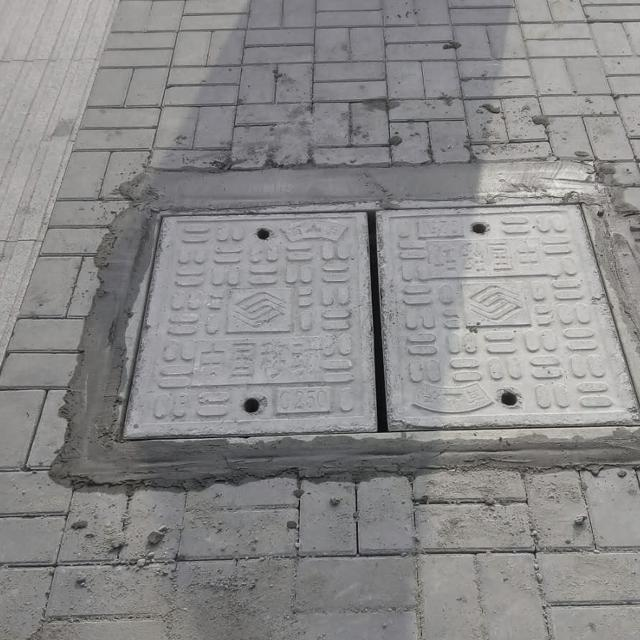good: (102, 199, 640, 442)
